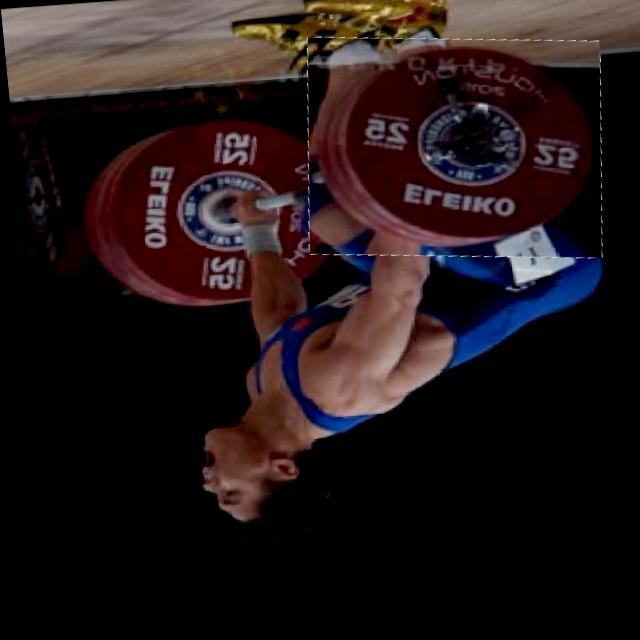barbell: (294, 33, 611, 278)
